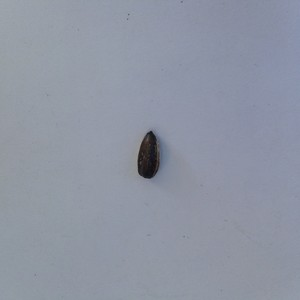girasol: (134, 128, 162, 181)
